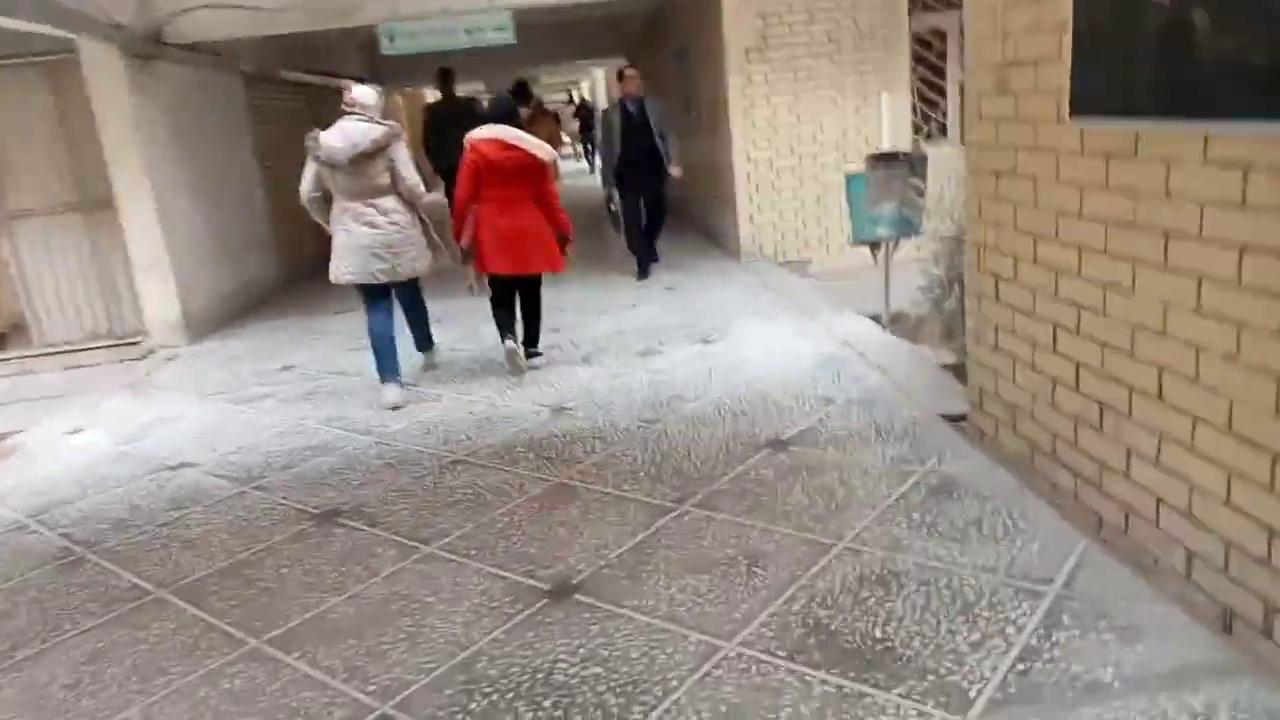person: (297, 80, 447, 408), (450, 94, 573, 374), (599, 64, 683, 280), (421, 65, 485, 211), (572, 95, 596, 174)
